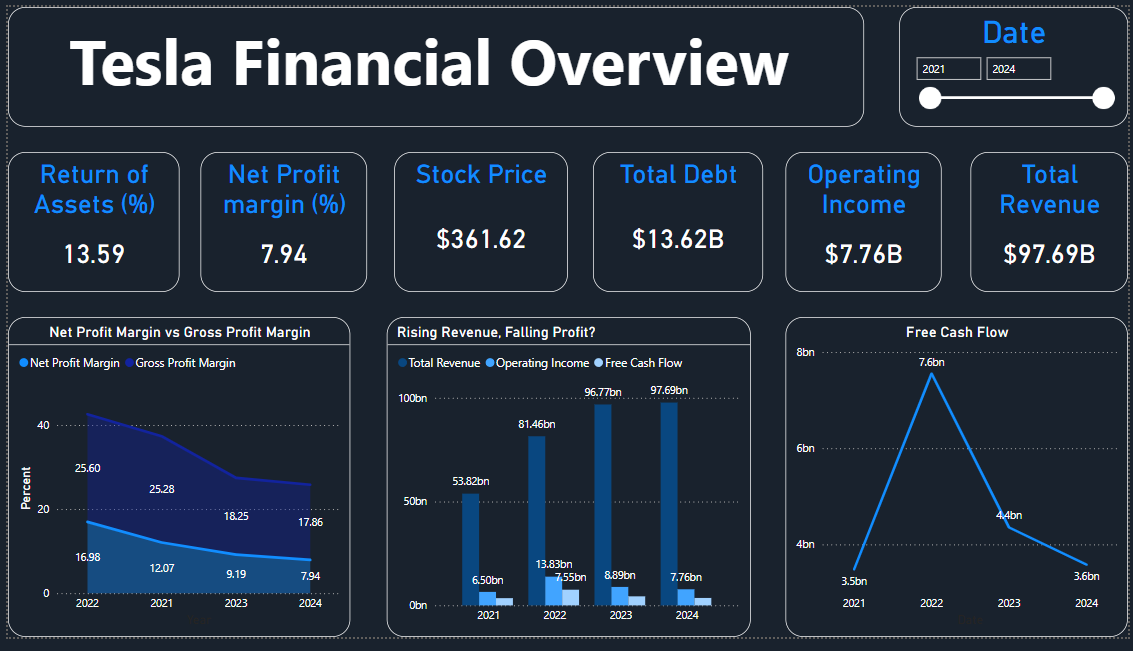

This screenshot's page, from the dashboard's own definition file:
{"tool":"powerbi","page":{"name":"Tesla Financial Overview","canvas":[1280,720],"ordinal":0},"visuals":[{"type":"card","title":"Total Revenue ","fields":{"Values":["Revenue & Operating Income Over Time.LatestTotalRevenue","select"]},"box":[1100,165.7,180,160],"z":0},{"type":"card","title":"Net Profit margin (%)","fields":{"Values":["Net Profit Margin Calculation.LatestNetProfitMargin"]},"box":[220,165.7,190,160],"z":1000},{"type":"card","title":"Operating Income ","fields":{"Values":["Revenue & Operating Income Over Time.LatestOperatingIncome","select"]},"box":[888.6,165.7,178.6,160],"z":2000},{"type":"card","title":"Total Debt","fields":{"Values":["Debt & Financial Stability.LatestTotalDebt","select"]},"box":[668.6,165.7,194.3,160],"z":3000},{"type":"card","title":"Stock Price","fields":{"Values":["cleaned_tesla_stock_prices.LatestClose","select"]},"box":[441.4,165.7,198.6,160],"z":4000},{"type":"stackedAreaChart","title":"Net Profit Margin vs Gross Profit Margin","fields":{"Category":["DateTable.Year"],"Y":["Sum(Net Profit Margin Calculation.Net_Profit_Margin)","Sum(Merge Tesla’s Key Financials.Gross_Profit_Margin_Column)"]},"box":[0,354.3,391.4,365.7],"z":5000},{"type":"textbox","box":[0,0,978.6,137.1],"z":6000},{"type":"slicer","title":"Date","fields":{"Values":["DateTable.Year"]},"box":[1018.6,0,261.4,137.1],"z":7000},{"type":"clusteredColumnChart","title":"Rising Revenue, Falling Profit?","fields":{"Y":["Sum(Revenue & Operating Income Over Time.Total_Revenue)","Sum(Revenue & Operating Income Over Time.Operating_Income)","Sum(Free Cash Flow Over Time.Free_Cash_Flow)"],"Category":["DateTable.Date"]},"box":[432.9,354.3,415.7,365.7],"z":8000},{"type":"lineChart","title":"Free Cash Flow ","fields":{"Category":["DateTable.Date"],"Y":["Sum(Free Cash Flow Over Time.Free_Cash_Flow)"]},"box":[888.6,354.3,391.4,365.7],"z":9000},{"type":"card","title":"Return of Assets (%)","fields":{"Values":["Merge Tesla’s Key Financials.ROA"]},"box":[0,165.7,195.7,160],"z":10000}]}

Visuals, with their boxes in screenshot pixels (x1, y1, x2, y2), scaled from the page's 1280x720 canvas onto the 1133x651 screenshot:
"Total Revenue " card: l=974, t=150, r=1132, b=294
"Net Profit margin (%)" card: l=195, t=150, r=363, b=294
"Operating Income " card: l=787, t=150, r=945, b=294
"Total Debt" card: l=592, t=150, r=764, b=294
"Stock Price" card: l=391, t=150, r=566, b=294
"Net Profit Margin vs Gross Profit Margin" stackedAreaChart: l=0, t=320, r=346, b=650
textbox: l=0, t=0, r=866, b=124
"Date" slicer: l=902, t=0, r=1132, b=124
"Rising Revenue, Falling Profit?" clusteredColumnChart: l=383, t=320, r=751, b=650
"Free Cash Flow " lineChart: l=787, t=320, r=1132, b=650
"Return of Assets (%)" card: l=0, t=150, r=173, b=294
